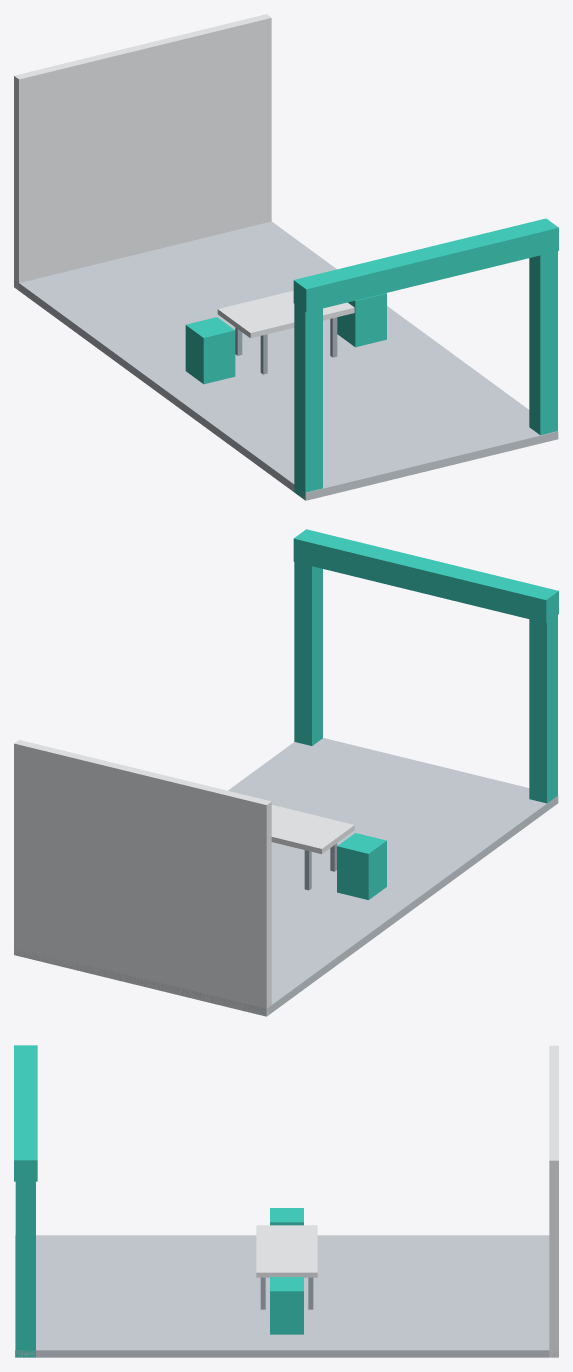
3 renders of one model, top to bottom at view 1: azimuth 30°, elevation 25°; view 2: azimuth 150°, elevation 25°; view 3: azimuth 270°, elevation 25°, orthographic. The views are drawn at different scales.
Visible parts, largest first — view 1: Exhibition Booth Concept; view 2: Exhibition Booth Concept; view 3: Exhibition Booth Concept.
Boxes of the visible parts, x1,y1,x2,y2 form: Exhibition Booth Concept: (14,14,558,500); Exhibition Booth Concept: (14,529,558,1016); Exhibition Booth Concept: (14,1045,558,1357).
Bounding box in the file's own units: 4 × 3.2 × 8.01.
